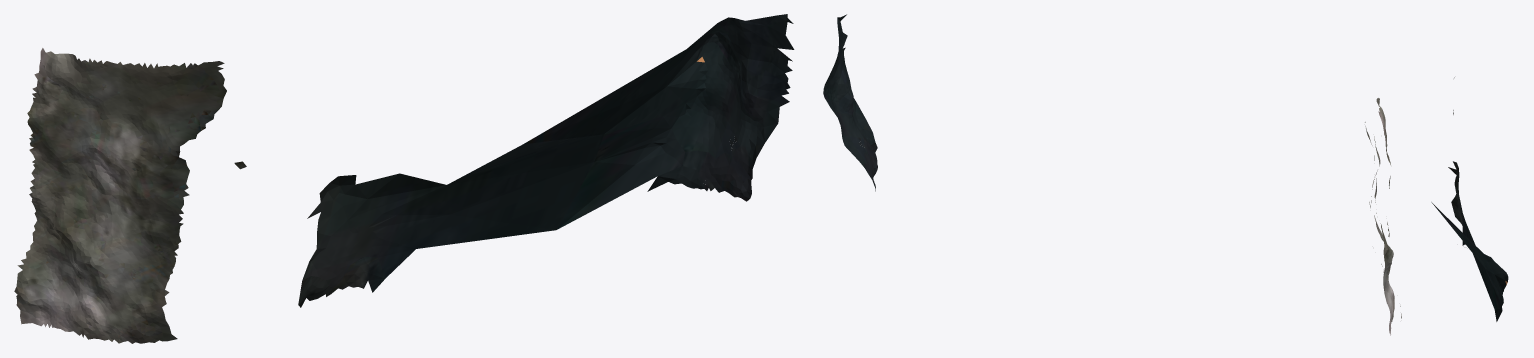
The model's file is tile_0042.gltf.
3 views of the same model, side by side, from view 1: azimuth 30°, elevation 25°; view 2: azimuth 150°, elevation 25°; view 3: azimuth 270°, elevation 25° (orthographic). The views are drawn at different scales.
Parts seen in each view (by area): view 1: defaultobject; view 2: defaultobject; view 3: defaultobject.
Part boxes in pixels (left/top/right/bottom): defaultobject: left=14, top=14, right=794, bottom=343; defaultobject: left=823, top=14, right=1401, bottom=335; defaultobject: left=1431, top=77, right=1508, bottom=321.
Size of the model in its own units: 0.5751 by 0.2202 by 0.1101.
2 materials, 2 textured.
